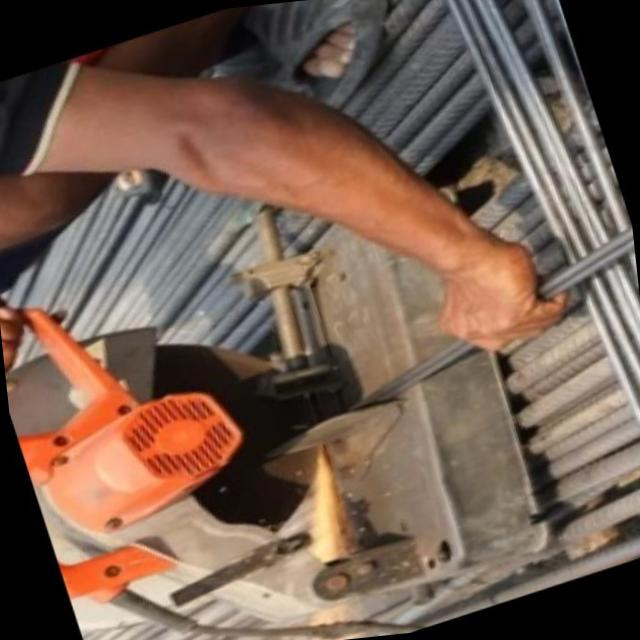not-gloved: (411, 226, 584, 374)
